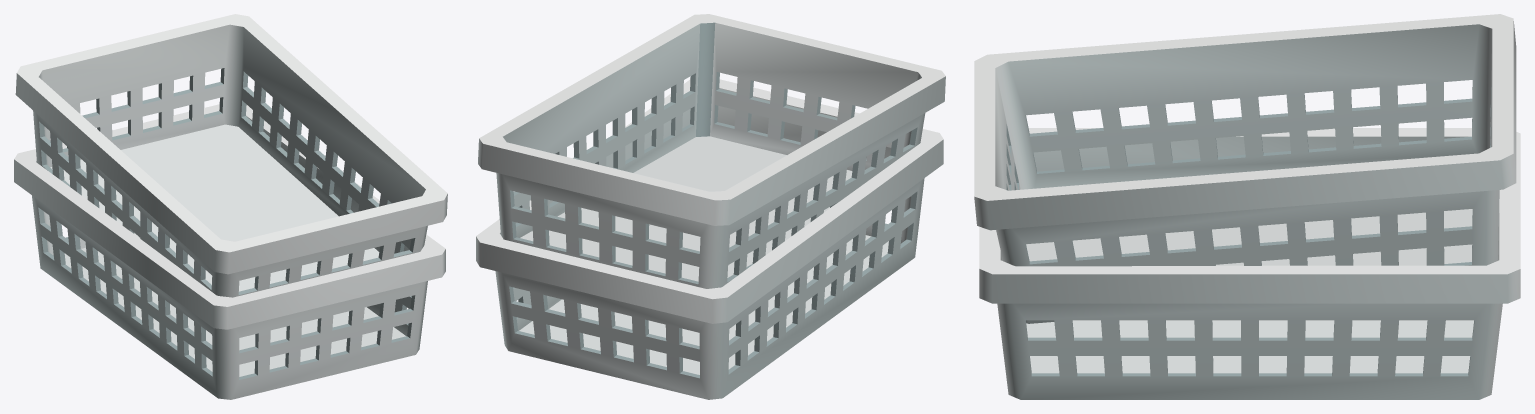
File: CR_sci_Basket_001.FBX
3 renders of one model, left to right at view 1: azimuth 30°, elevation 25°; view 2: azimuth 150°, elevation 25°; view 3: azimuth 270°, elevation 25°, orthographic. The views are drawn at different scales.
Visible parts, largest first — view 1: CR_sci_Basket_001; view 2: CR_sci_Basket_001; view 3: CR_sci_Basket_001.
Part boxes in pixels (x1,y1,x2,y2): CR_sci_Basket_001: [14, 14, 447, 399]; CR_sci_Basket_001: [476, 14, 945, 399]; CR_sci_Basket_001: [974, 14, 1520, 399].
Size of the model in its own units: 14.93 by 11.92 by 23.57.
